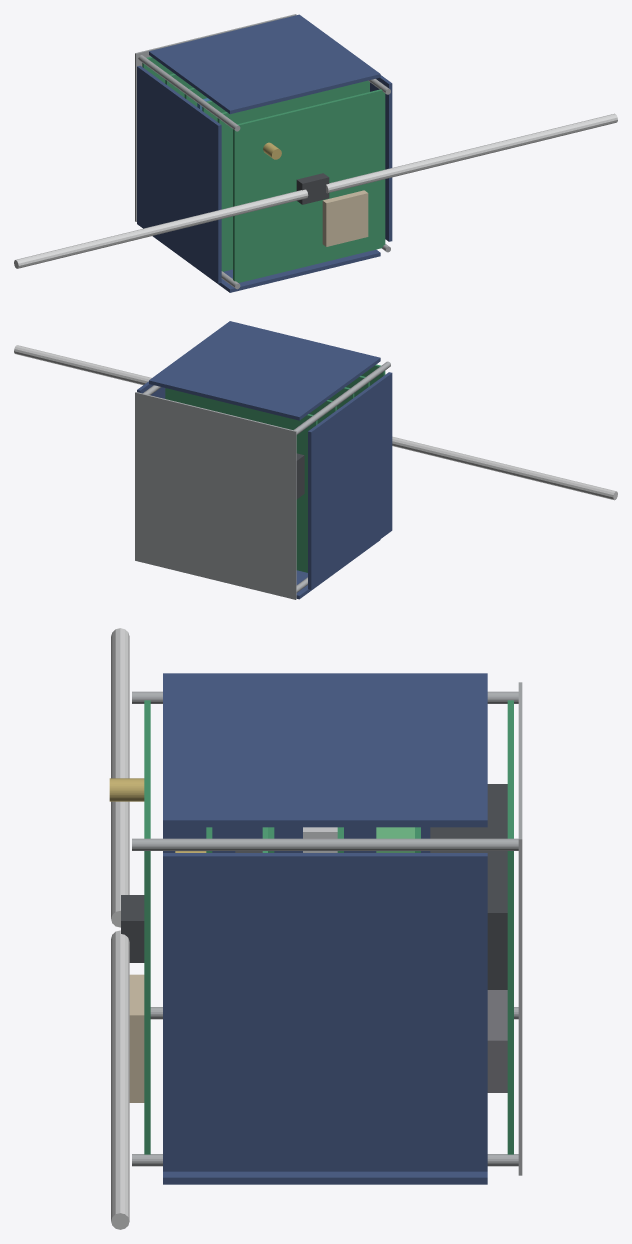
The model's file is cubesat.glb.
The picture shows the model from 3 angles, top to bottom: view 1: azimuth 30°, elevation 25°; view 2: azimuth 150°, elevation 25°; view 3: azimuth 270°, elevation 25°; orthographic projection. The views are drawn at different scales.
Visible parts, largest first — view 1: L1_board, solar_panel_2, solar_panel_3, L2_board, L1_dipole_a, L1_dipole_b, L1_gps_patch, solar_panel_4, solar_panel_1, frame_rod_4, frame_bottom_feet, L1_dipole_clamp; view 2: frame_bottom_feet, solar_panel_2, solar_panel_3, L5_board, L1_dipole_a, L1_dipole_b, frame_rod_4, L6_battery_holder; view 3: solar_panel_1, solar_panel_3, L1_dipole_b, frame_rod_3, L1_dipole_a, L6_battery_holder, solar_panel_4, L6_board, L1_board, frame_bottom_feet, solar_panel_2, L6_magnet (+4 smaller).
Part boxes in pixels (x1=…): L1_board: x1=233, y1=89, x2=385, y2=282; solar_panel_2: x1=137, y1=65, x2=221, y2=283; solar_panel_3: x1=149, y1=14, x2=380, y2=114; L2_board: x1=217, y1=80, x2=369, y2=271; L1_dipole_a: x1=14, y1=189, x2=308, y2=268; L1_dipole_b: x1=326, y1=113, x2=617, y2=193; L1_gps_patch: x1=322, y1=190, x2=368, y2=246; solar_panel_4: x1=152, y1=236, x2=380, y2=292; solar_panel_1: x1=370, y1=75, x2=392, y2=241; frame_rod_4: x1=138, y1=55, x2=240, y2=131; frame_bottom_feet: x1=135, y1=14, x2=296, y2=221; L1_dipole_clamp: x1=296, y1=173, x2=329, y2=204; frame_bottom_feet: x1=135, y1=392, x2=296, y2=599; solar_panel_2: x1=308, y1=372, x2=392, y2=589; solar_panel_3: x1=149, y1=321, x2=380, y2=420; L5_board: x1=165, y1=388, x2=317, y2=572; L1_dipole_a: x1=392, y1=436, x2=617, y2=500; L1_dipole_b: x1=14, y1=345, x2=151, y2=384; frame_rod_4: x1=293, y1=361, x2=390, y2=434; L6_battery_holder: x1=296, y1=453, x2=304, y2=499; solar_panel_1: x1=163, y1=853, x2=487, y2=1171; solar_panel_3: x1=163, y1=673, x2=487, y2=827; L1_dipole_b: x1=111, y1=930, x2=129, y2=1229; frame_rod_3: x1=132, y1=838, x2=518, y2=850; L1_dipole_a: x1=111, y1=628, x2=129, y2=927; L6_battery_holder: x1=430, y1=784, x2=507, y2=989; solar_panel_4: x1=163, y1=1171, x2=487, y2=1184; L6_board: x1=507, y1=700, x2=513, y2=1154; L1_board: x1=144, y1=700, x2=150, y2=1154; frame_bottom_feet: x1=518, y1=682, x2=522, y2=1175; solar_panel_2: x1=163, y1=827, x2=430, y2=852; L6_magnet: x1=487, y1=990, x2=507, y2=1092.
Bounding box in the file's own units: 358 × 104 × 107.
